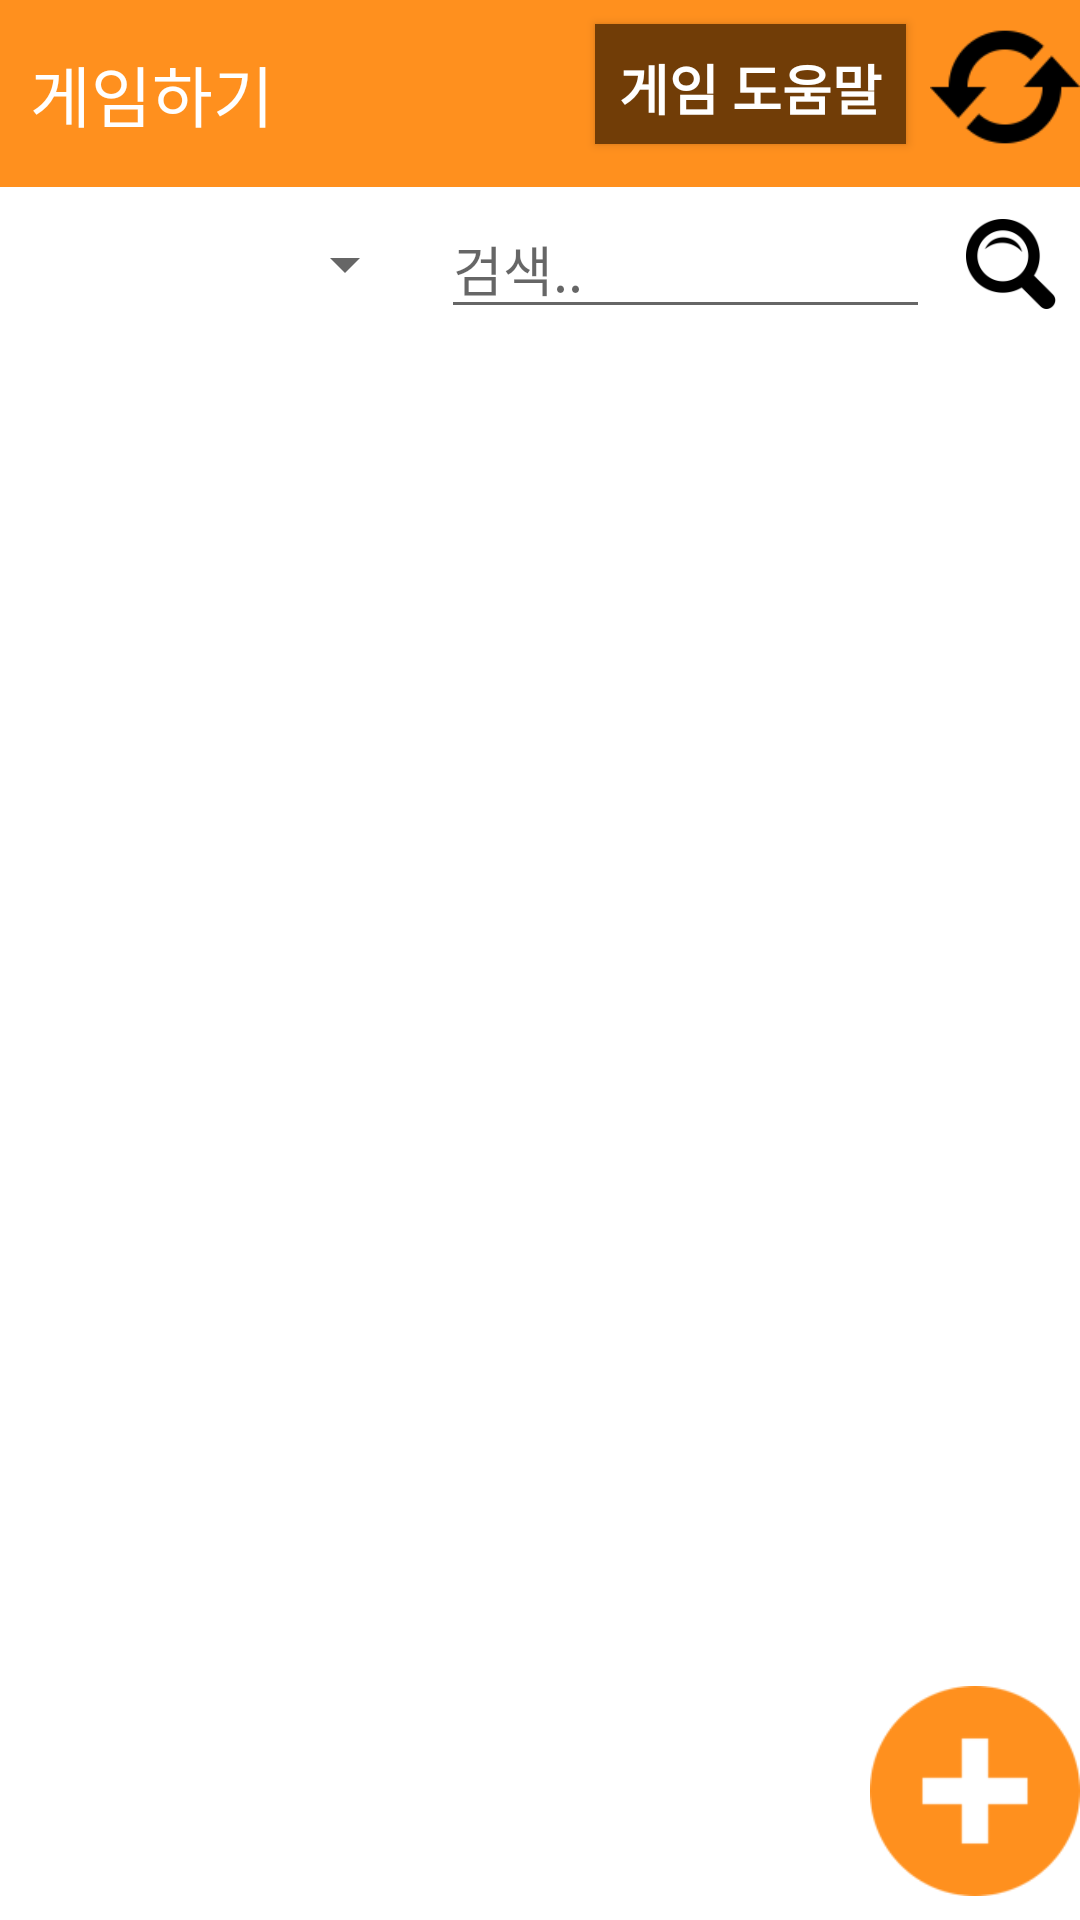

Icons on this 1080x1920 Android screen, each with the point to tap as (x=x, y=y):
방 개설: (x=975, y=1791)
